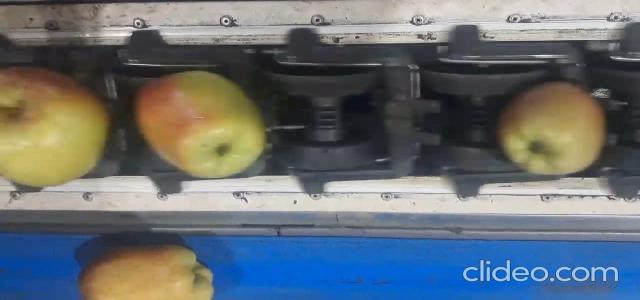apple: (136, 71, 265, 178), (0, 69, 109, 186), (499, 82, 605, 173)
